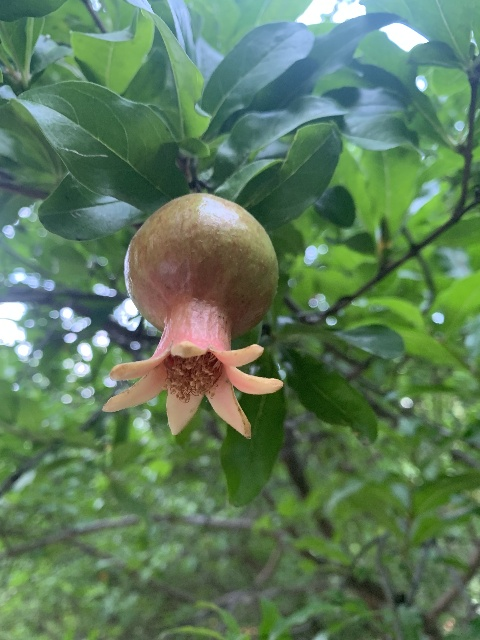early-fruit: (103, 192, 284, 441)
